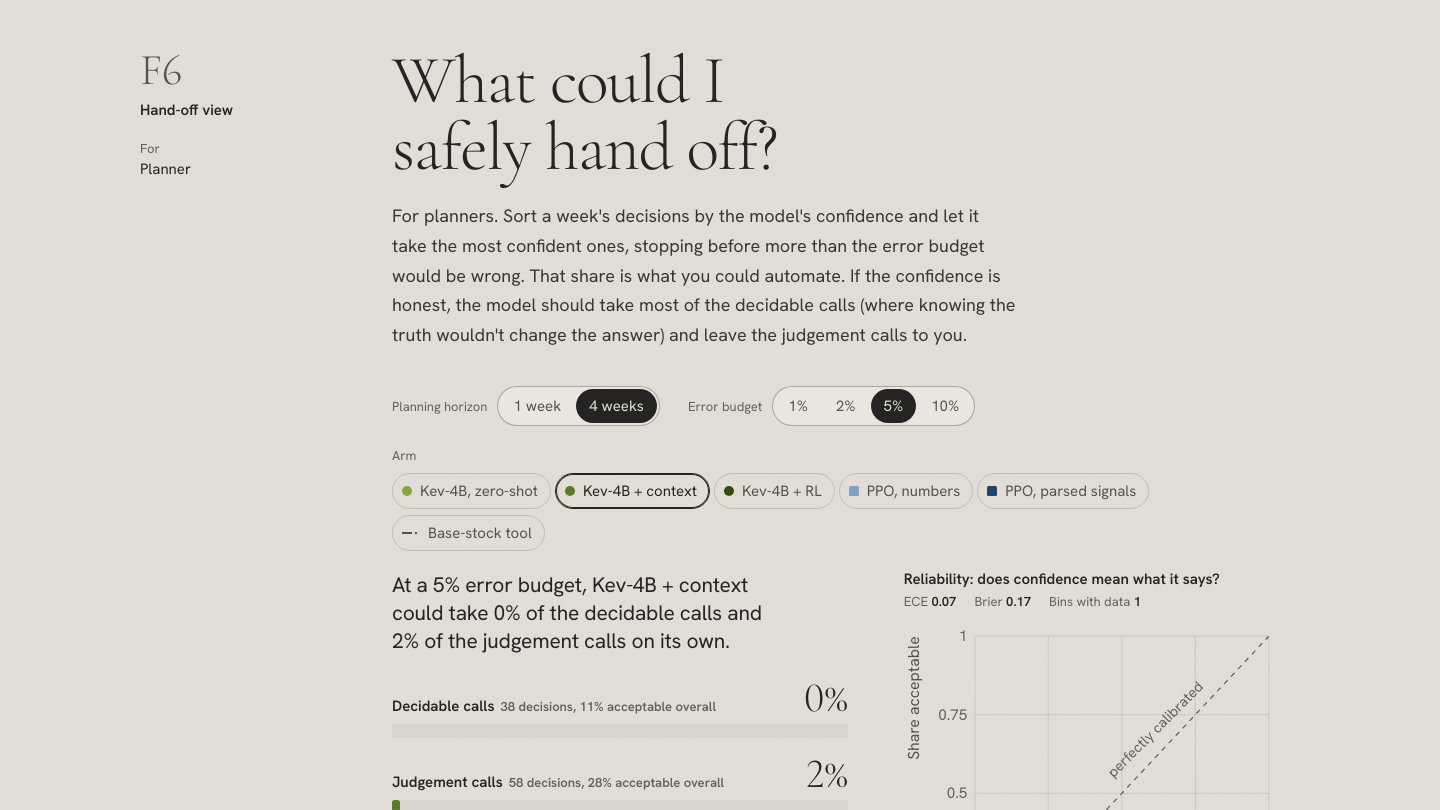
Test case: the report, from the sample JSON › turns calibration into a hand-off answer at each budget (F6)
(page scrolled)
Expected: the text "At a 5% error budget, Kev-4B + context could take" is shown, 392,571 -> 762,654
Step 1. Click the radio button labelled "10%" → (945, 406), box 918,389 -> 972,423
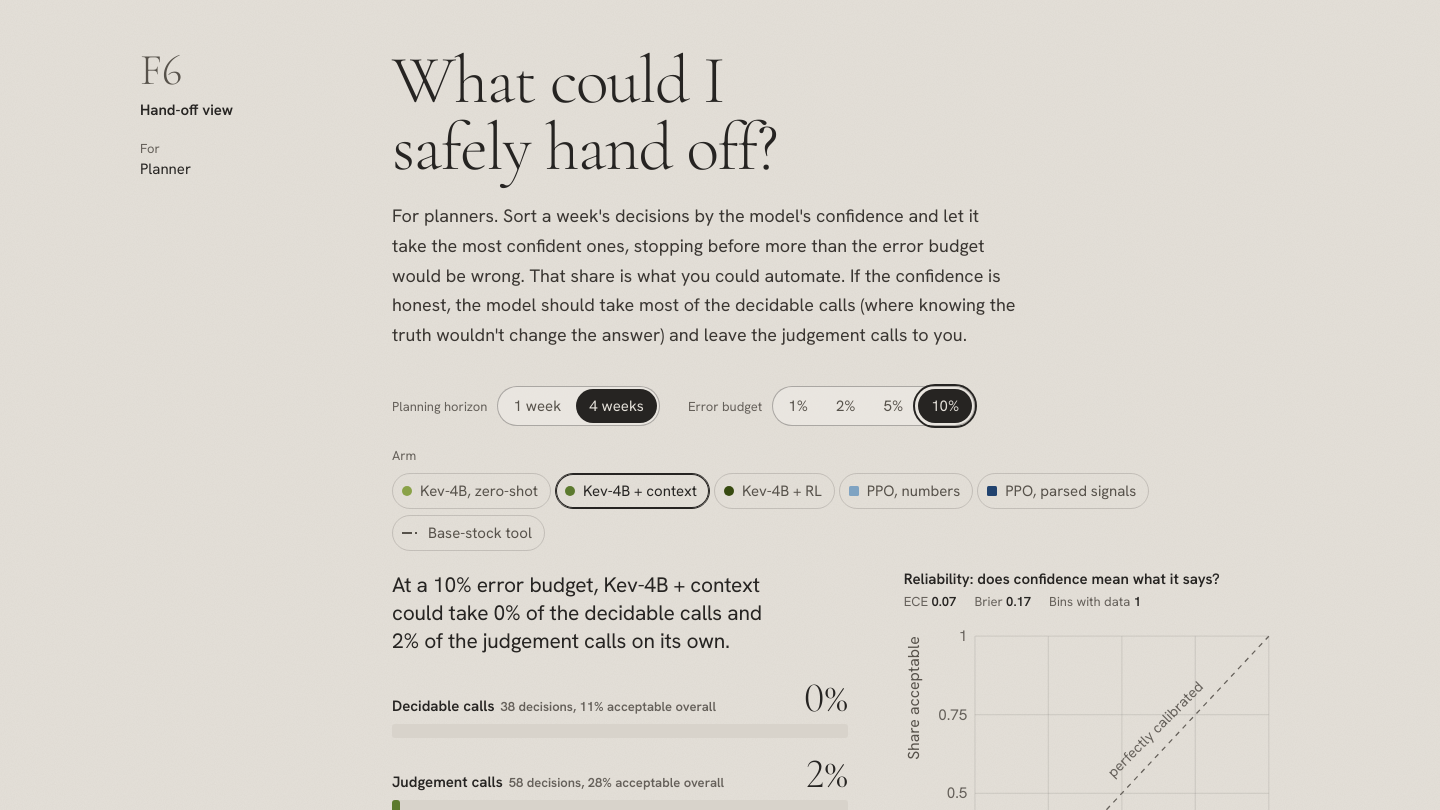
Now the text "At a 10% error budget" is shown, box 392,571 -> 762,654
Step 2. Click the radio button labelled "PPO, parsed signals" → (1063, 491), box 977,473 -> 1149,509
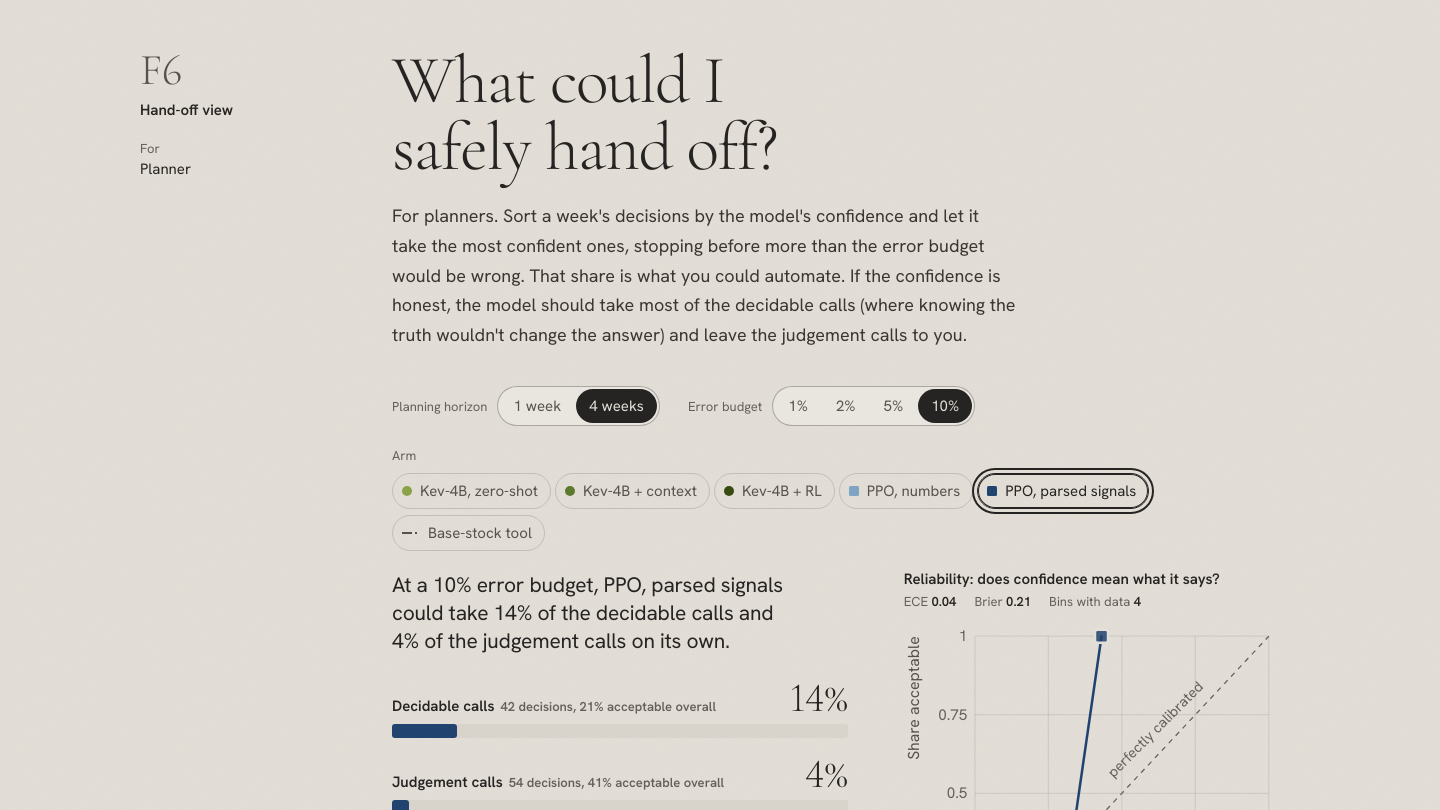
Now the text "PPO, parsed signals could take" is shown, box 392,571 -> 783,654
// keyboard on the segmented control
Step 3. Press ArrowLeft in the radio button labelled "10%", box 918,389 -> 972,423
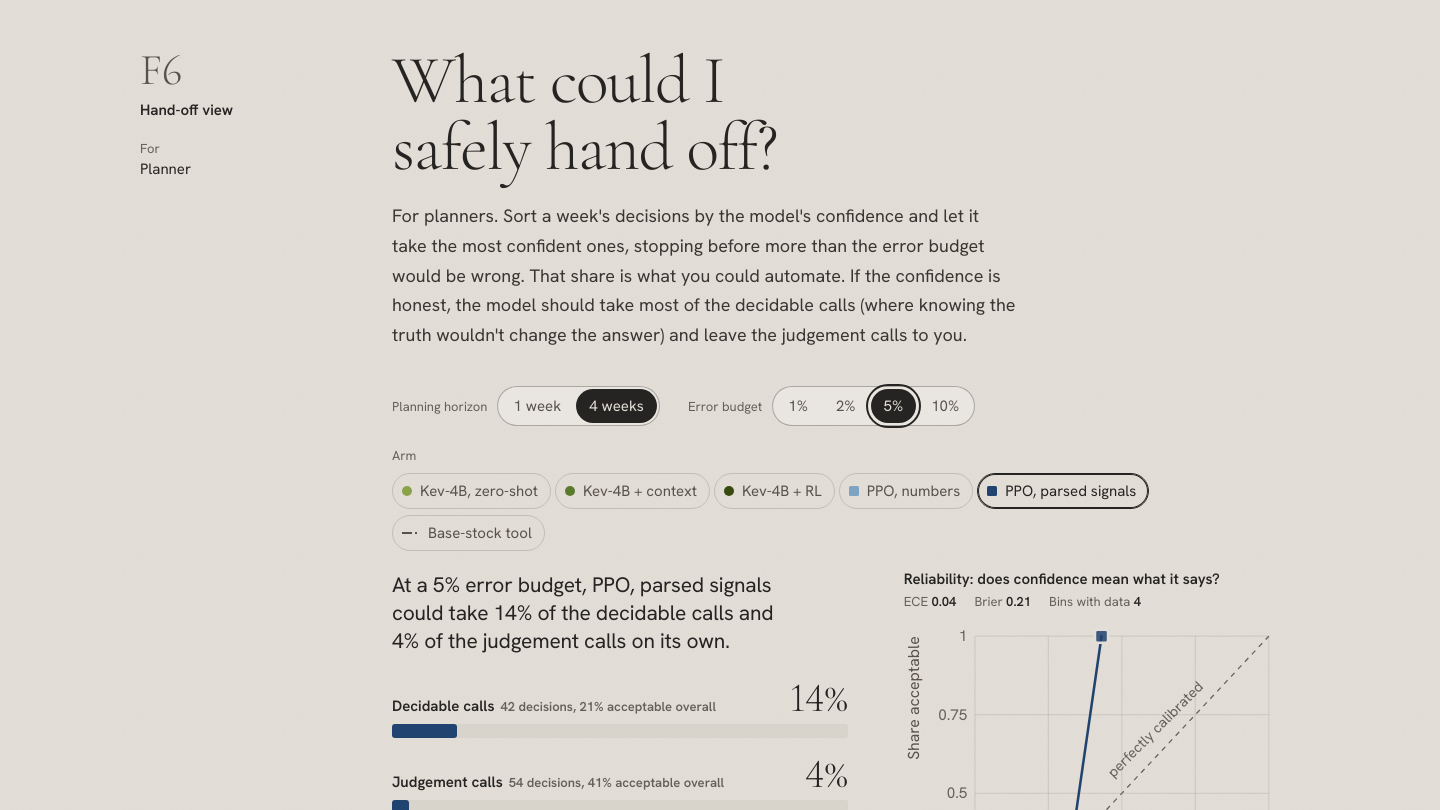
Now the text "At a 5% error budget" is shown, box 392,571 -> 773,654
Step 4. Press ArrowRight in the radio button labelled "5%", box 870,389 -> 916,423
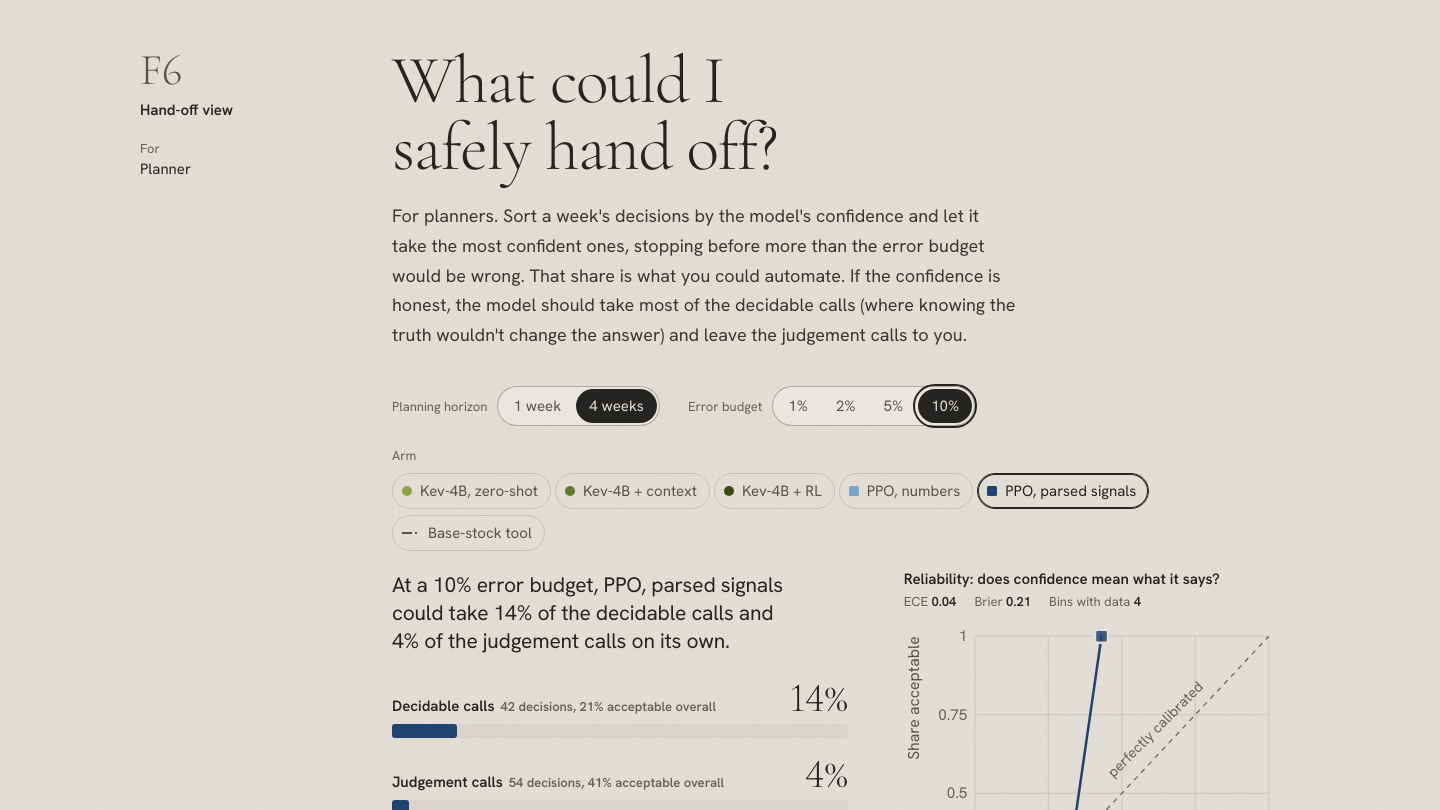
Now the text "At a 10% error budget" is shown, box 392,571 -> 783,654
